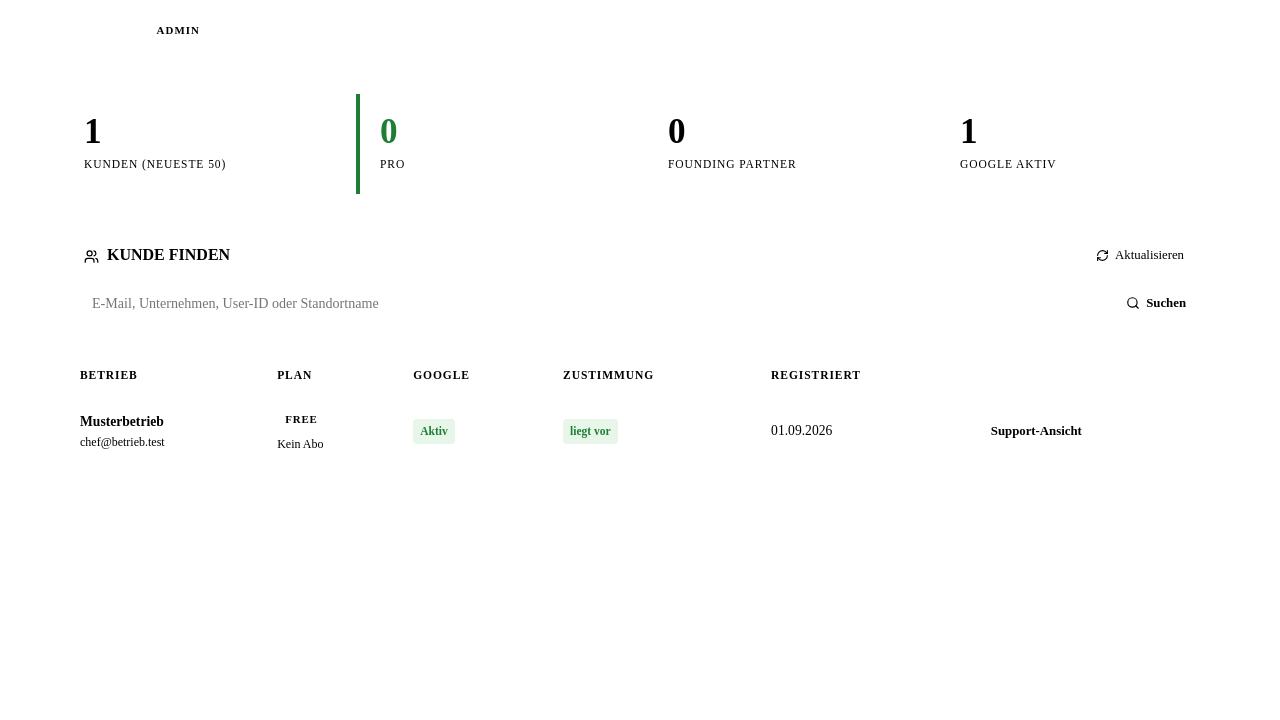
Test: Support-Ansicht (§6, §30) › zeigt den gewählten Standort als gewählt (§8)
Click the button "Support-Ansicht" at (1036, 431), box [977,414,1096,449]
(page scrolled)
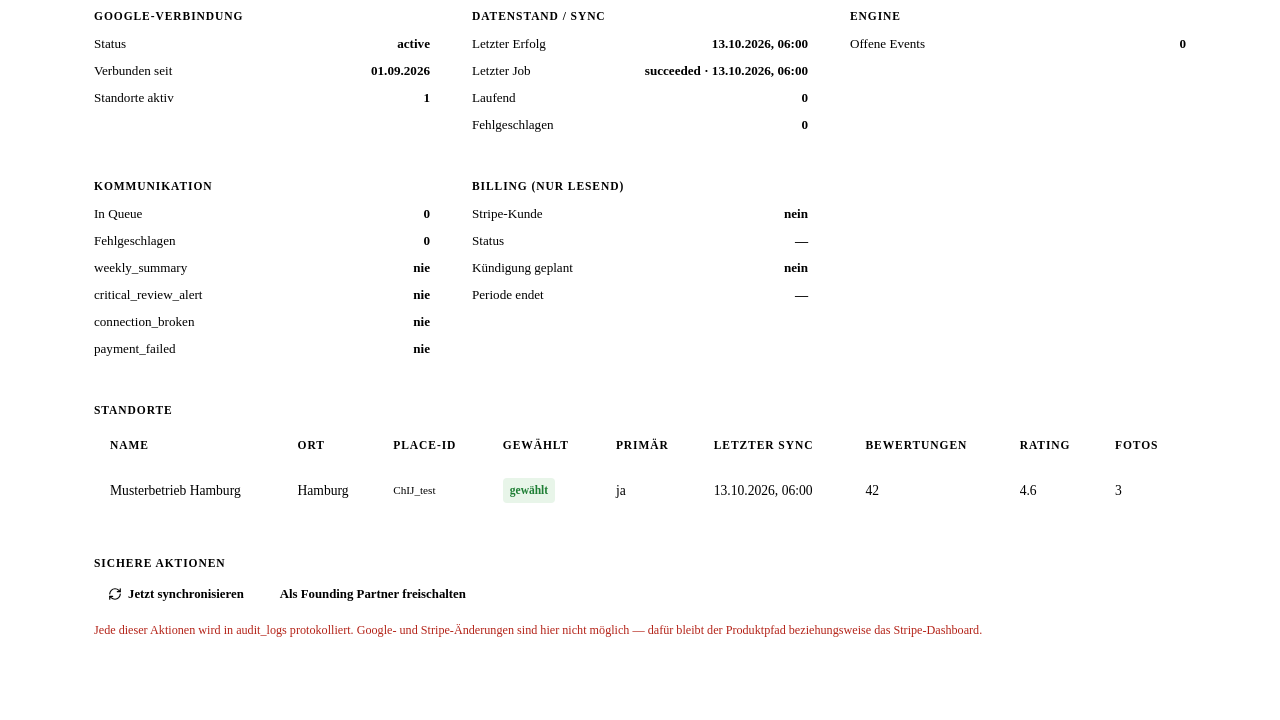
Result: the text "Musterbetrieb Hamburg" is shown at [94,466,282,515]
Result: the text "gewählt" is shown at [503,478,555,503]
Result: the text "ChIJ_test" is shown at [377,466,487,515]
